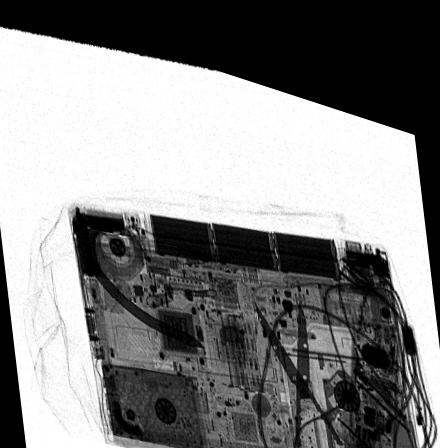Scissors: (251, 276, 372, 448)
